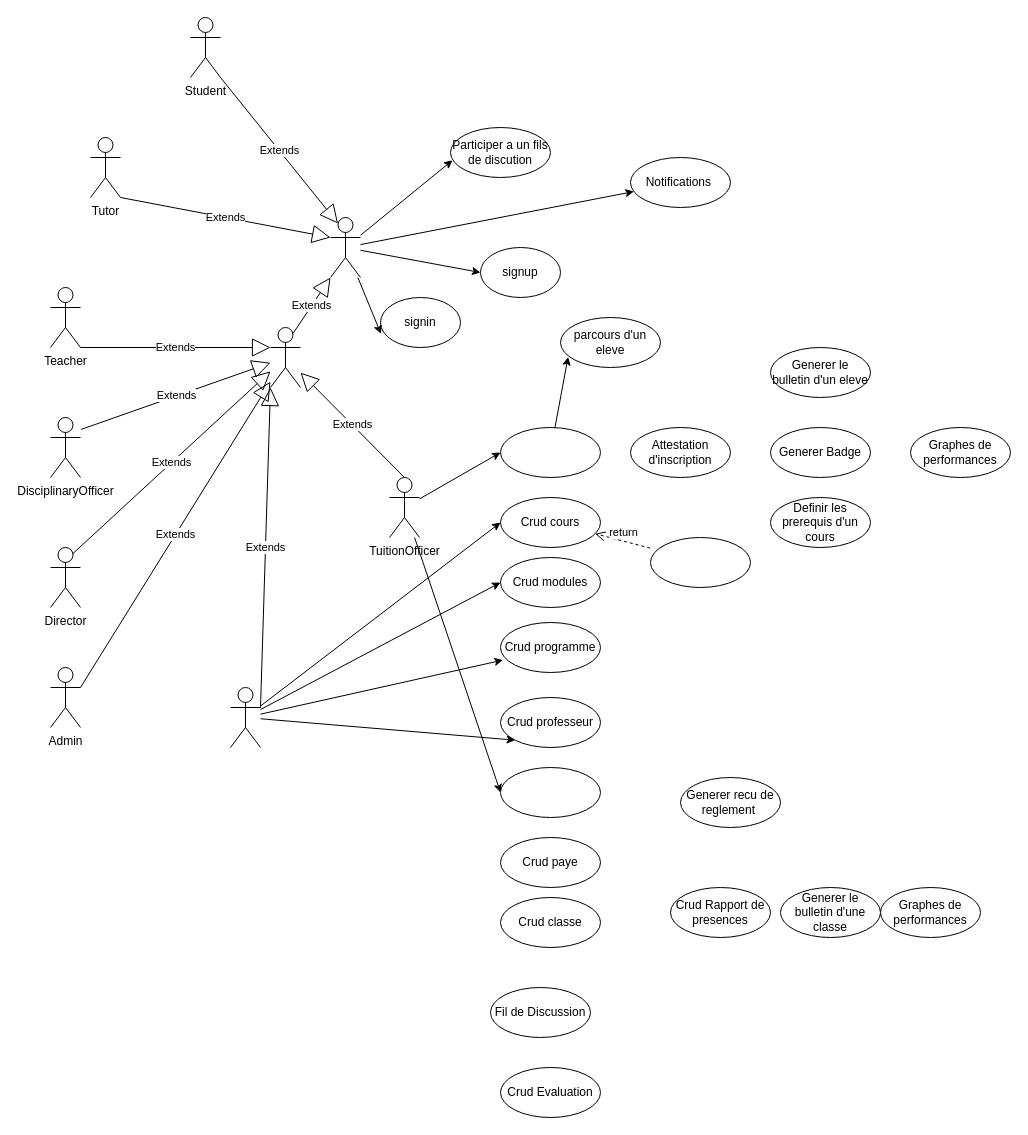
The diagram is 1028 pixels wide and 1135 high, and some of its shapes have lost their labels. The centre of each missing label's shape, as x and y in pixels:
Attribution de cours: the point at 700,562
Crud d'eleve: the point at 550,452
Crud reglement: the point at 550,792
Personnel: the point at 285,357
Programs director: the point at 245,717
User: the point at 345,247
